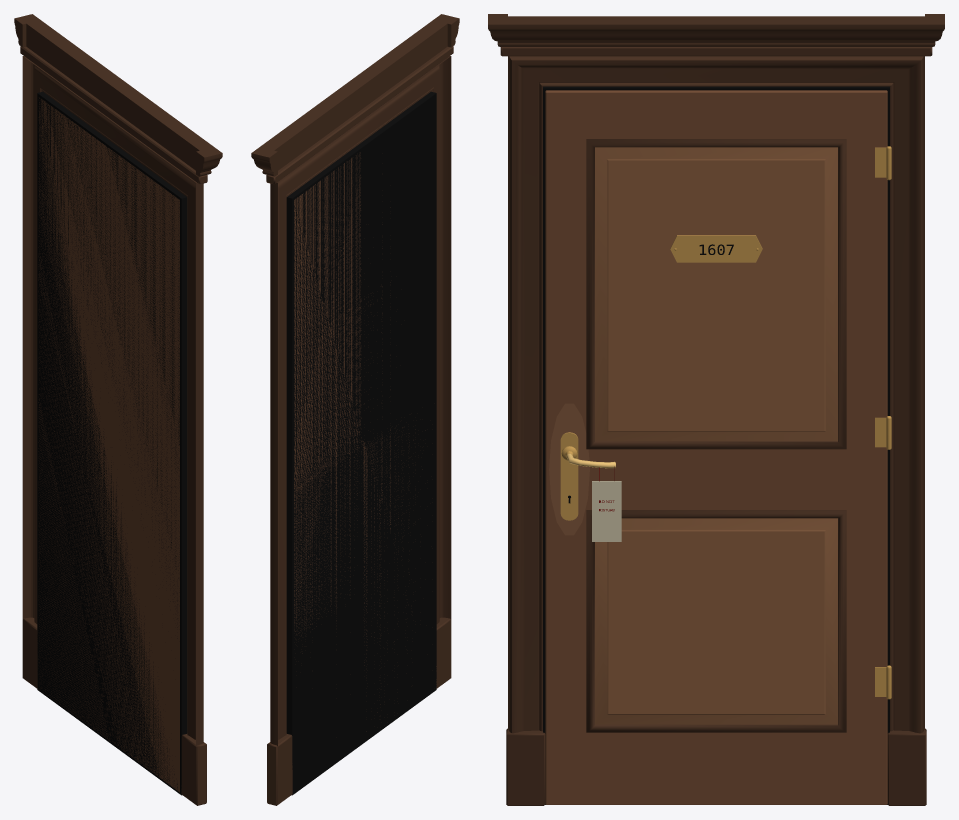
The model's file is hotel_door_c@2.glb.
3 views of the same model, side by side, from view 1: azimuth 30°, elevation 25°; view 2: azimuth 150°, elevation 25°; view 3: azimuth 270°, elevation 25° (orthographic). The views are drawn at different scales.
Parts seen in each view (by area): view 1: blatt, fuge, bekleidung, verdachung; view 2: fuge, bekleidung, blatt, verdachung; view 3: fuellungen, blatt, bekleidung, verdachung, kehlleisten, fuge, beschlag, abrieb, nummernschild, karte.
Boxes of the visible parts, <box> form: blatt: <box>38,97,179,792</box>; fuge: <box>37,91,187,795</box>; bekleidung: <box>22,56,206,805</box>; verdachung: <box>14,14,222,184</box>; fuge: <box>286,91,436,795</box>; bekleidung: <box>267,56,451,805</box>; blatt: <box>294,152,425,731</box>; verdachung: <box>251,14,459,184</box>; fuellungen: <box>595,147,837,724</box>; blatt: <box>545,90,887,804</box>; bekleidung: <box>506,56,926,805</box>; verdachung: <box>488,14,944,56</box>; kehlleisten: <box>586,139,846,732</box>; fuge: <box>543,86,889,804</box>; beschlag: <box>560,146,891,699</box>; abrieb: <box>549,403,589,535</box>; nummernschild: <box>670,235,762,262</box>; karte: <box>592,481,621,541</box>.
Bounding box in the file's own units: 0.1169 × 2.33 × 1.23.
